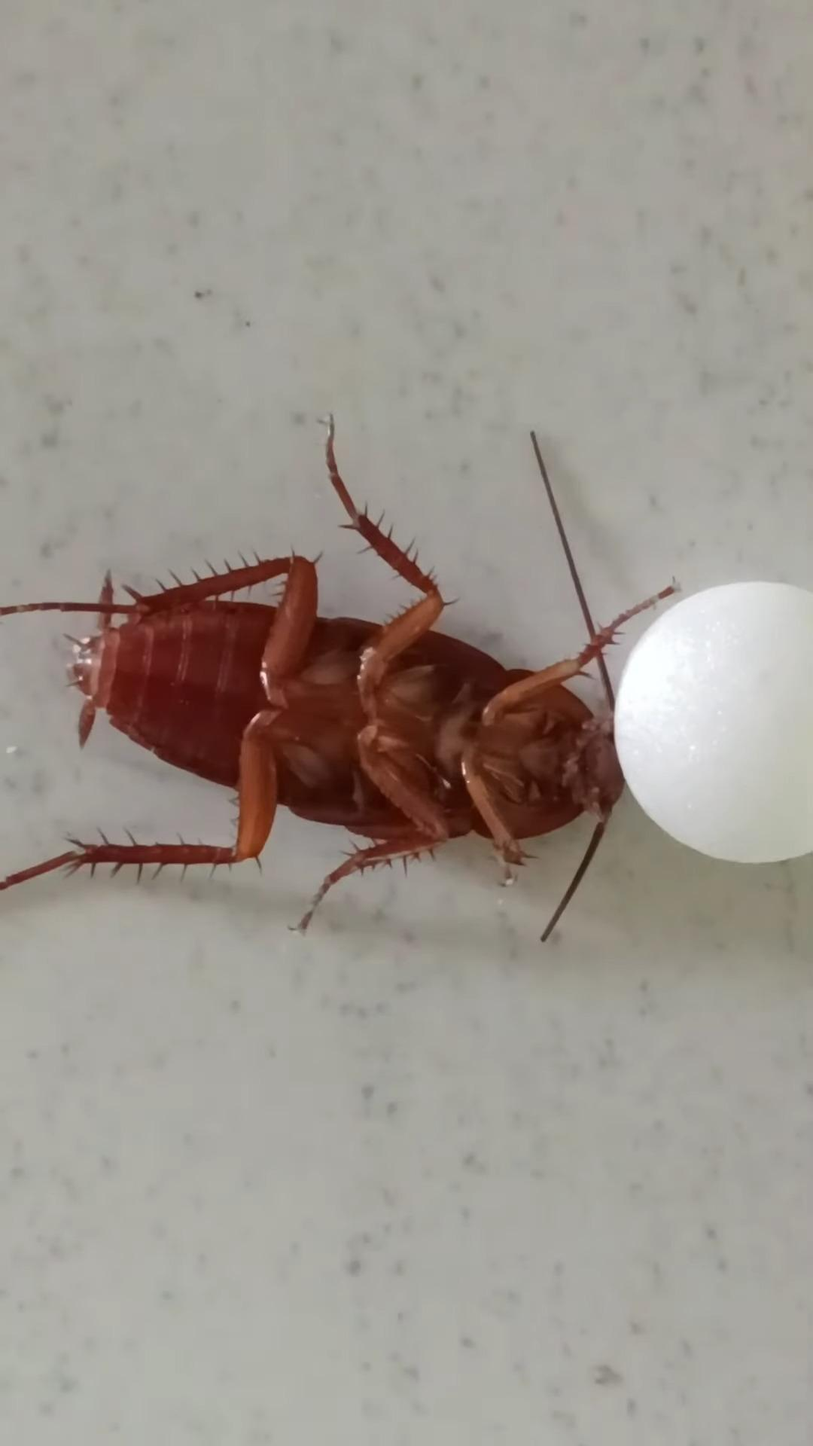cockroach: (0, 366, 619, 1001)
